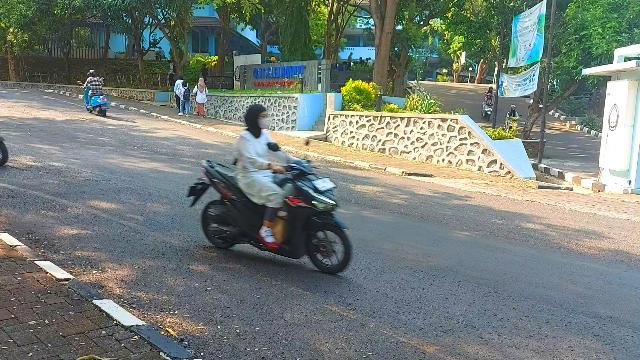motor: (189, 138, 353, 274)
non-helm: (246, 106, 271, 129)
